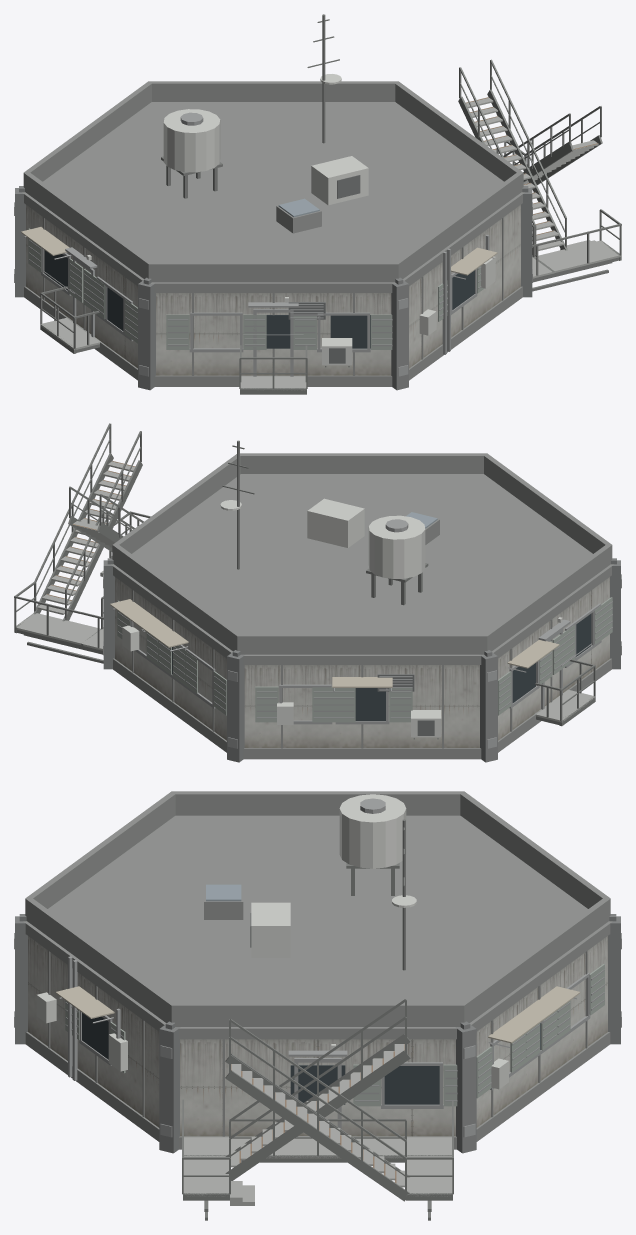
File: modulo_refugio.glb
The picture shows the model from 3 angles, top to bottom: view 1: azimuth 30°, elevation 25°; view 2: azimuth 150°, elevation 25°; view 3: azimuth 270°, elevation 25°; orthographic projection. The views are drawn at different scales.
Parts seen in each view (by area): view 1: modulo_A, azotea, modulo_B, tramo_par, modulo_lejos, tramo_impar; view 2: modulo_A, azotea, modulo_B, tramo_impar, modulo_lejos, tramo_par; view 3: modulo_A, azotea, modulo_B, tramo_impar, tramo_par, modulo_lejos.
Part boxes in pixels (x1,y1,x2,y2): modulo_A: (14, 102, 621, 394); azotea: (23, 14, 523, 282); modulo_B: (26, 205, 520, 375); tramo_par: (458, 59, 567, 256); modulo_lejos: (44, 250, 474, 348); tramo_impar: (503, 106, 602, 185); modulo_A: (14, 474, 621, 762); azotea: (112, 440, 612, 654); modulo_B: (110, 597, 612, 748); tramo_impar: (33, 423, 142, 621); modulo_lejos: (172, 614, 591, 720); tramo_par: (68, 486, 143, 551); modulo_A: (14, 815, 621, 1220); azotea: (25, 791, 610, 1026); modulo_B: (28, 936, 607, 1126); tramo_impar: (225, 1019, 410, 1201); tramo_par: (225, 999, 410, 1180); modulo_lejos: (82, 1013, 540, 1135).
Bounding box in the file's own units: 17.45 × 8.04 × 15.48.
13 materials, 1 textured.
